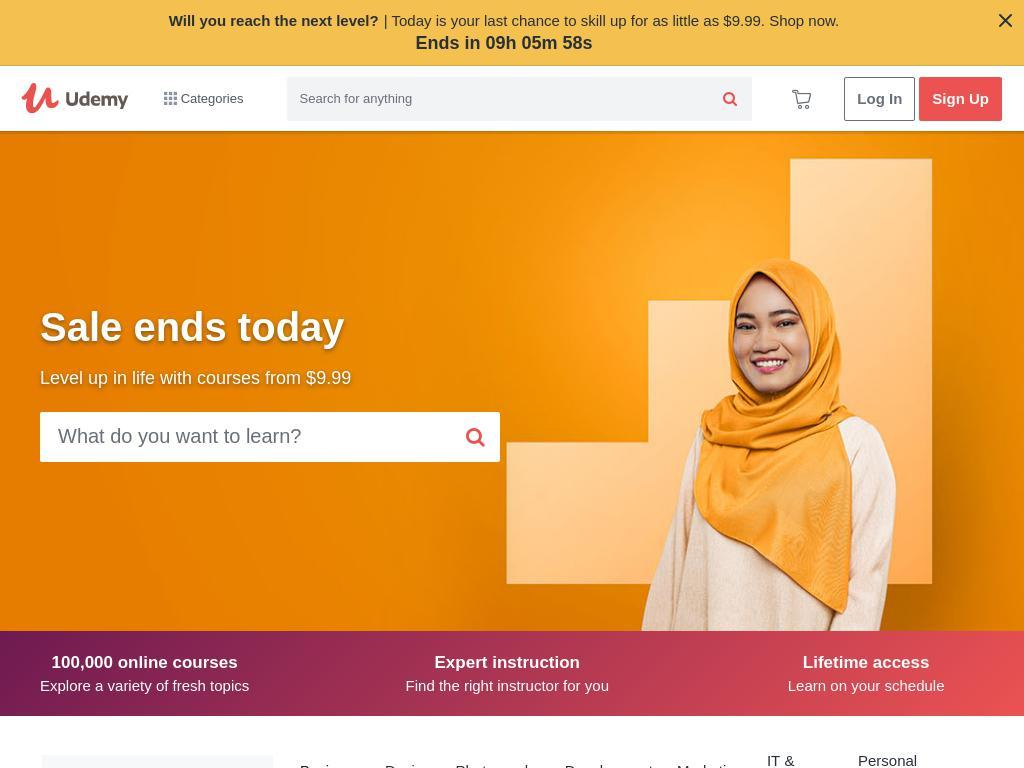button: (148, 76, 260, 121), (845, 740, 983, 768), (919, 76, 1003, 121), (20, 82, 130, 115), (844, 76, 916, 121), (552, 740, 666, 768), (443, 740, 553, 768), (754, 740, 846, 768), (665, 740, 755, 768), (288, 740, 373, 768), (779, 76, 825, 121), (372, 740, 444, 768)
field: (40, 411, 451, 462), (286, 76, 709, 121)
image: (20, 82, 130, 115)
text: (40, 300, 500, 354), (40, 363, 500, 392), (383, 12, 839, 29), (40, 651, 250, 675), (405, 651, 609, 675), (40, 675, 250, 696), (405, 675, 609, 696), (787, 651, 945, 675), (168, 12, 379, 29), (415, 33, 594, 53), (787, 675, 945, 696), (177, 91, 244, 106), (780, 88, 824, 109)
